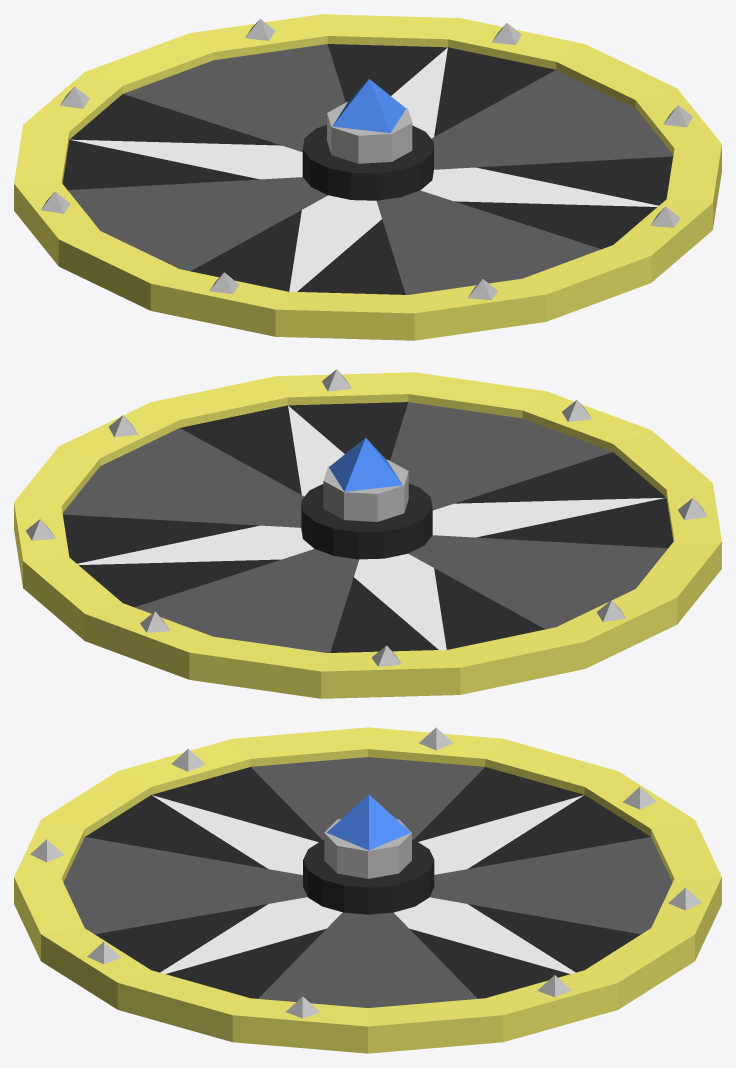
The model's file is Shield_1_e_gr.fbx.
The picture shows the model from 3 angles, top to bottom: view 1: azimuth 30°, elevation 25°; view 2: azimuth 150°, elevation 25°; view 3: azimuth 270°, elevation 25°; orthographic projection.
Visible parts, largest first — view 1: Circle.299, Circle.300, Circle.297, Circle.298, Circle.302, Circle.301, Cone.353; view 2: Circle.299, Circle.300, Circle.297, Circle.298, Circle.302, Circle.301, Cone.353; view 3: Circle.299, Circle.300, Circle.297, Circle.298, Circle.302, Circle.301, Cone.353.
Boxes of the visible parts, <box> form: Circle.299: <box>14,14,721,340</box>; Circle.300: <box>68,44,673,294</box>; Circle.297: <box>62,44,672,294</box>; Circle.298: <box>70,47,658,291</box>; Circle.302: <box>302,124,433,200</box>; Circle.301: <box>327,101,412,163</box>; Cone.353: <box>332,79,405,132</box>; Circle.299: <box>14,372,721,698</box>; Circle.300: <box>62,402,667,652</box>; Circle.297: <box>63,402,673,652</box>; Circle.298: <box>77,405,665,649</box>; Circle.302: <box>301,483,432,559</box>; Circle.301: <box>323,459,408,521</box>; Cone.353: <box>329,437,402,491</box>; Circle.299: <box>14,727,721,1053</box>; Circle.300: <box>63,757,672,1007</box>; Circle.297: <box>85,767,650,998</box>; Circle.298: <box>152,795,583,973</box>; Circle.302: <box>303,839,434,914</box>; Circle.301: <box>324,819,411,878</box>; Cone.353: <box>327,794,410,850</box>.
Size of the model in its own units: 80.85 by 24.85 by 80.85.
